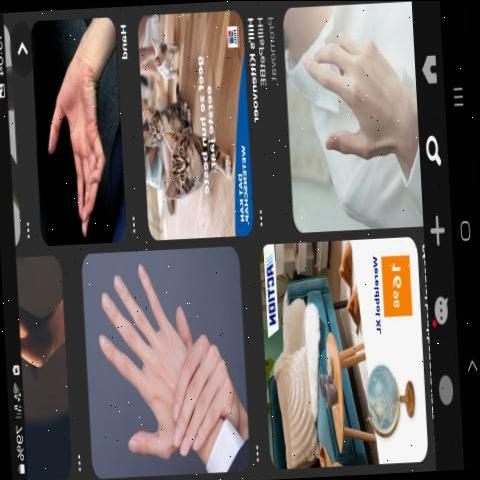Hands: (86, 258, 220, 470), (36, 26, 123, 240), (298, 33, 404, 192)
